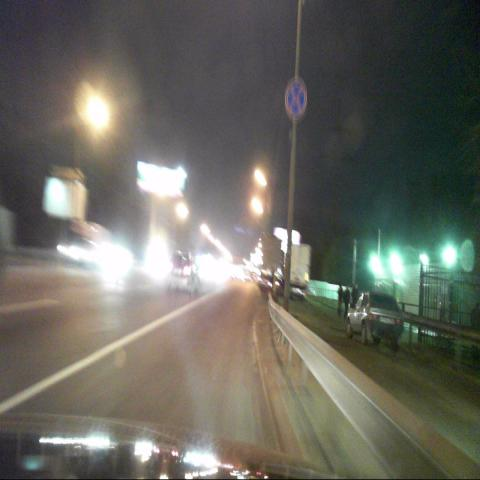3_27: (284, 78, 306, 119)
